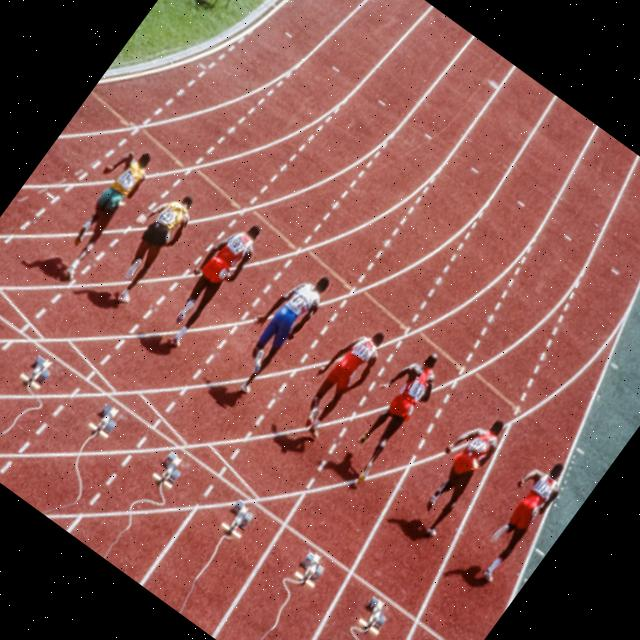Person: (324, 340, 452, 490), (39, 138, 159, 282), (216, 258, 336, 400), (153, 212, 268, 351), (459, 448, 574, 585), (400, 406, 512, 539), (283, 314, 392, 440), (96, 181, 204, 308)
